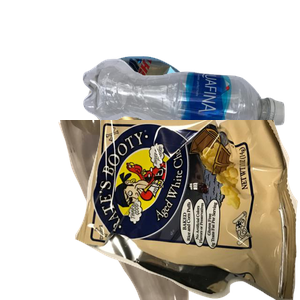glass: (56, 120, 241, 300)
metal: (84, 53, 279, 202)
plastic: (80, 56, 300, 187)
trash: (75, 120, 300, 300)
